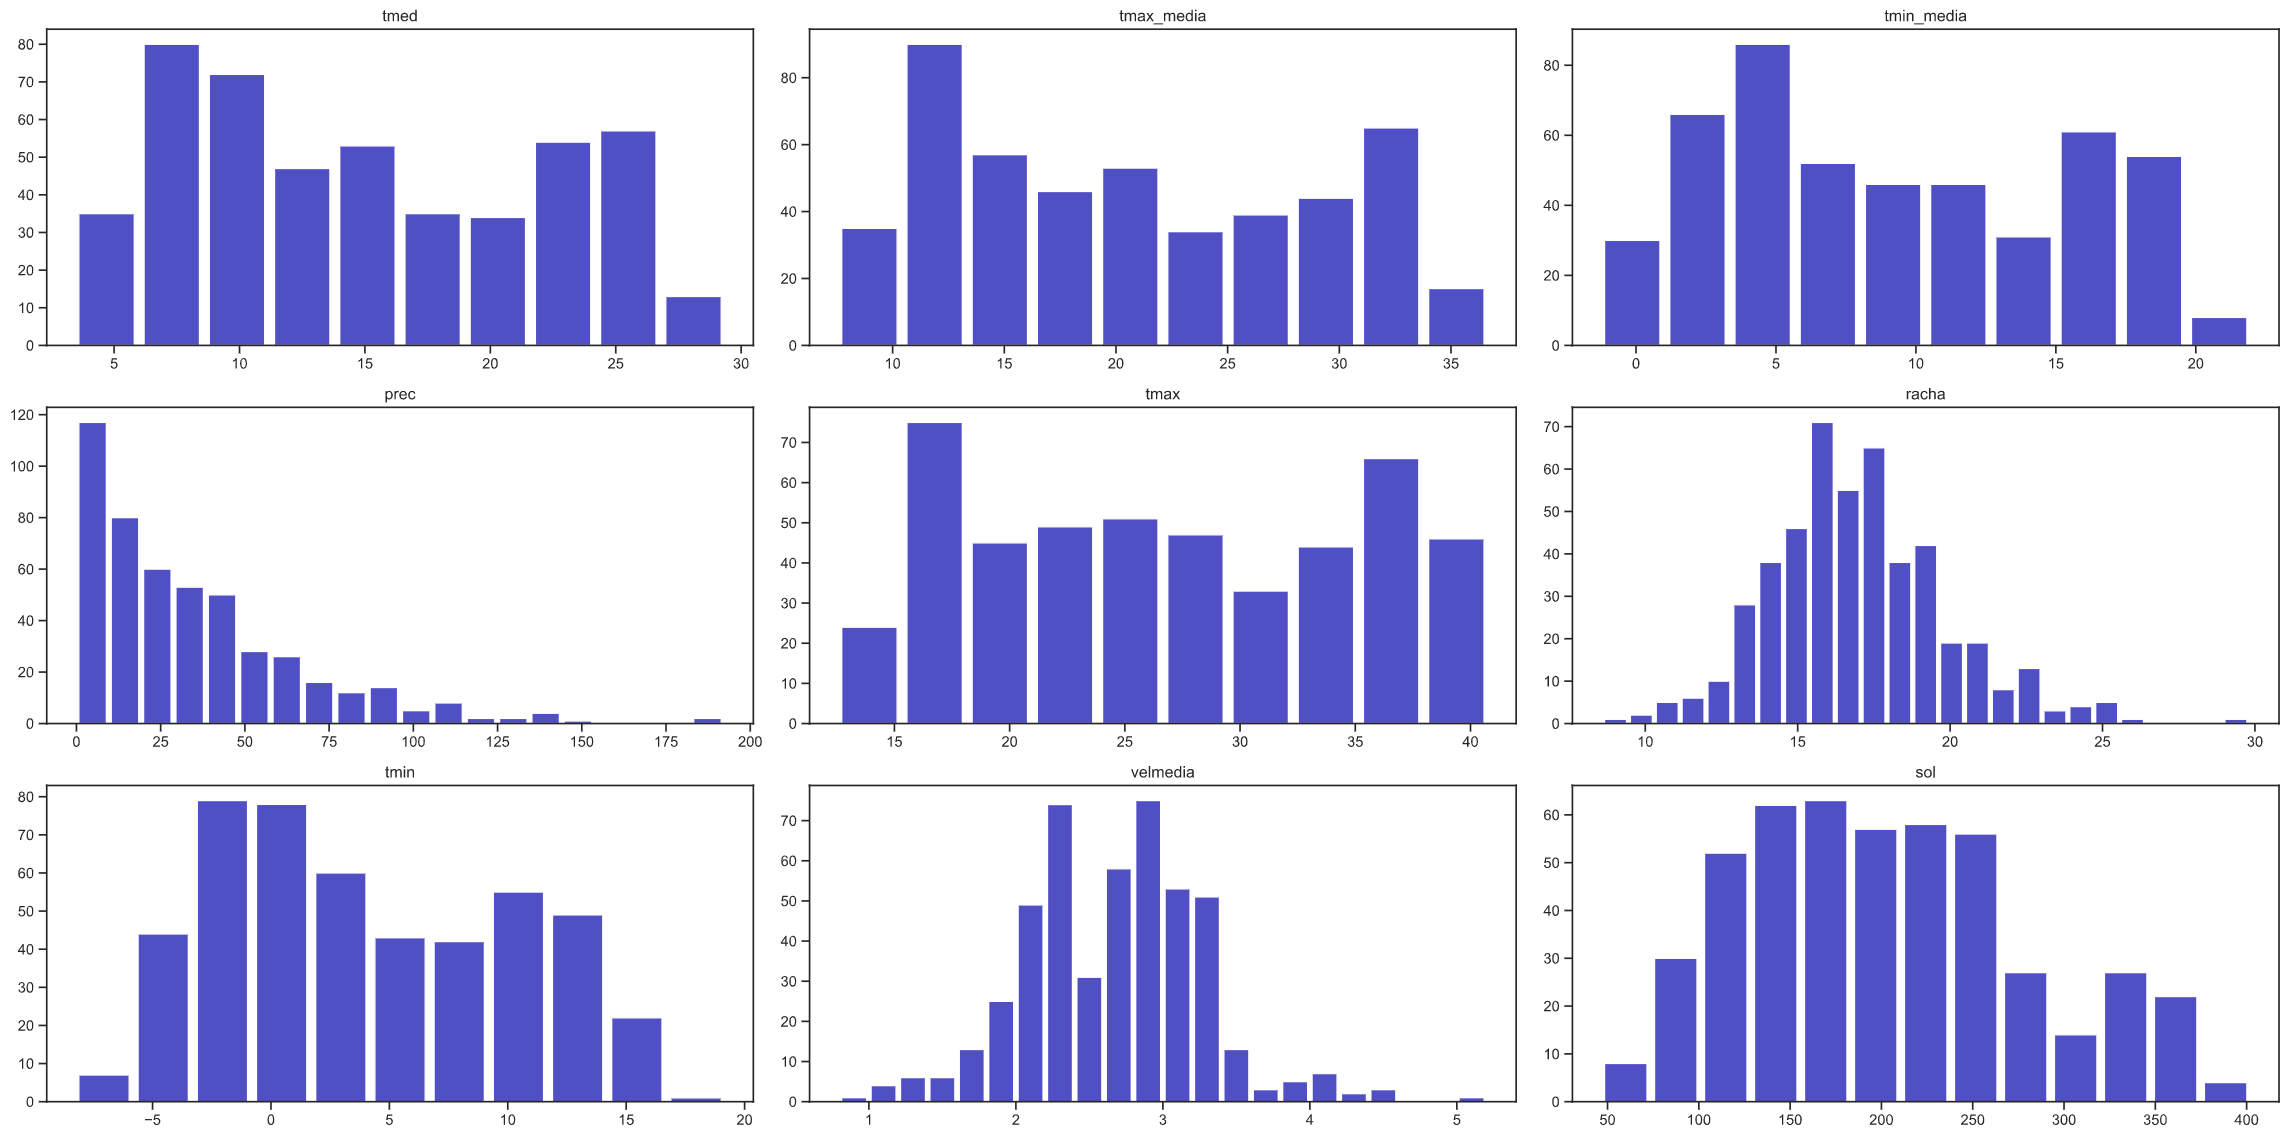

The page's visual inventory and layout, read from the dashboard file:
{"tool":"tableau","page":{"name":"Dashboard 1","canvas":[1000,800],"ordinal":0},"visuals":[{"type":"worksheet","box":[0,0,1000,800]},{"type":"worksheet","param":"vert","box":[8,8,984,784]},{"type":"worksheet","param":"vert","box":[8,8,984,784]},{"type":"worksheet","param":"vert","box":[8,8,984,784]},{"type":"worksheet","param":"horz","box":[8,8,984,784]},{"type":"worksheet","box":[8,8,984,784]},{"type":"worksheet","title":"Ejerc_3","mark":"Bar","rows":["nfl_football_team_stats.csv_F0E51368351C47BAA9D474CDCC50A5A3"],"cols":["Date"],"box":[8,8,984,392]},{"type":"worksheet","title":"Ejerc_5","mark":"Automatic","rows":["nfl_football_team_stats.csv_F0E51368351C47BAA9D474CDCC50A5A3"],"cols":["Result","GameLocation"],"box":[8,400,984,392]},{"type":"worksheet","title":"Ejerc_5","mark":"Automatic","rows":["nfl_football_team_stats.csv_F0E51368351C47BAA9D474CDCC50A5A3"],"cols":["Result","GameLocation"],"param":"[federated.0vuhr9i1xq6ohk124noam0y9f3zk].[none:GameLocation:nk]","box":[846,427,140,78]},{"type":"worksheet","box":[879,703,113,40]},{"type":"worksheet","box":[425,706,116,42]}]}

Visuals, with their boxes on the page's 1000x800 design canvas (x1, y1, x2, y2). These are canvas units, not pixel positions in the 2289x1138 screenshot, which may show the page scaled, cropped or inside an application window:
worksheet: crop(0, 0, 1000, 800)
worksheet: crop(8, 8, 992, 792)
worksheet: crop(8, 8, 992, 792)
worksheet: crop(8, 8, 992, 792)
worksheet: crop(8, 8, 992, 792)
worksheet: crop(8, 8, 992, 792)
"Ejerc_3" worksheet (Bar marks): crop(8, 8, 992, 400)
"Ejerc_5" worksheet: crop(8, 400, 992, 792)
"Ejerc_5" worksheet: crop(846, 427, 986, 505)
worksheet: crop(879, 703, 992, 743)
worksheet: crop(425, 706, 541, 748)
